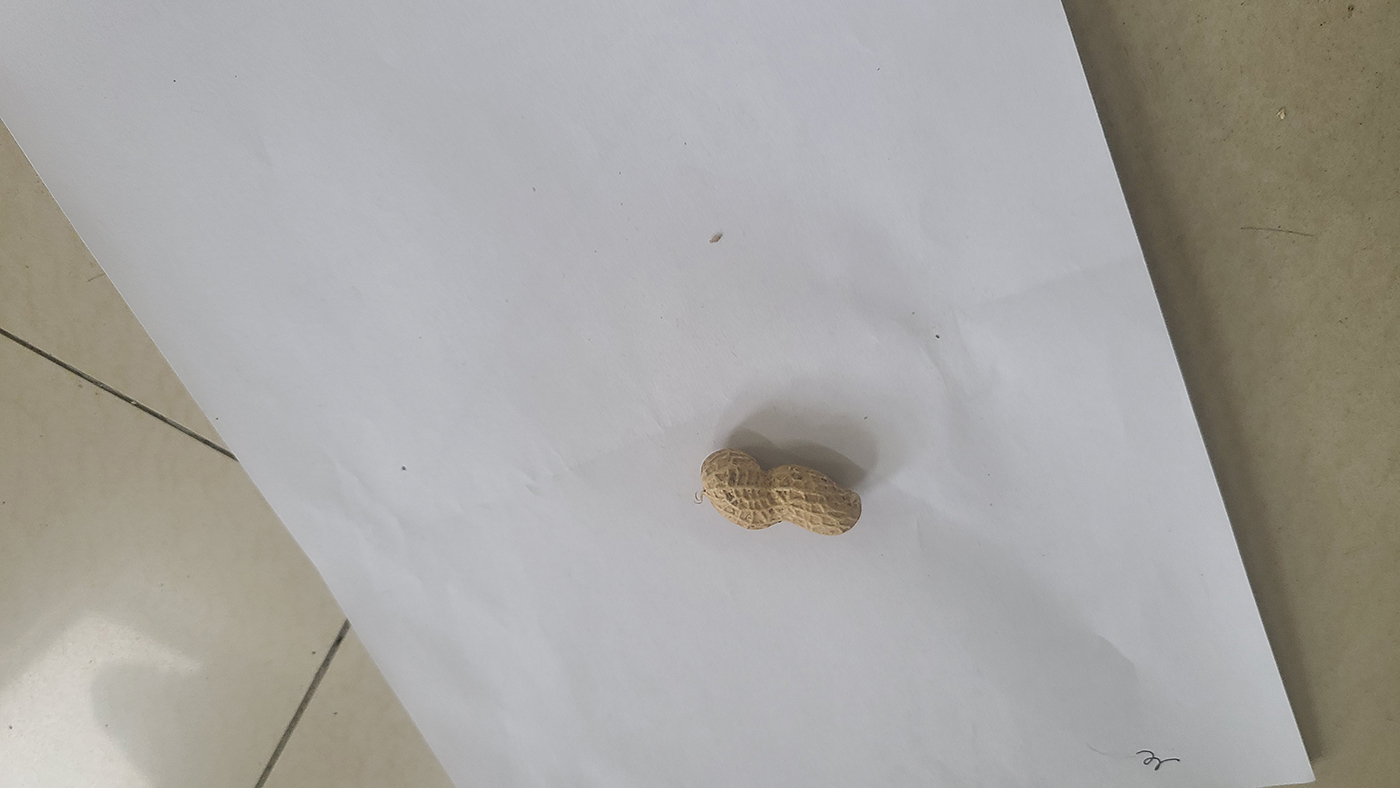h: (699, 448, 863, 534)
